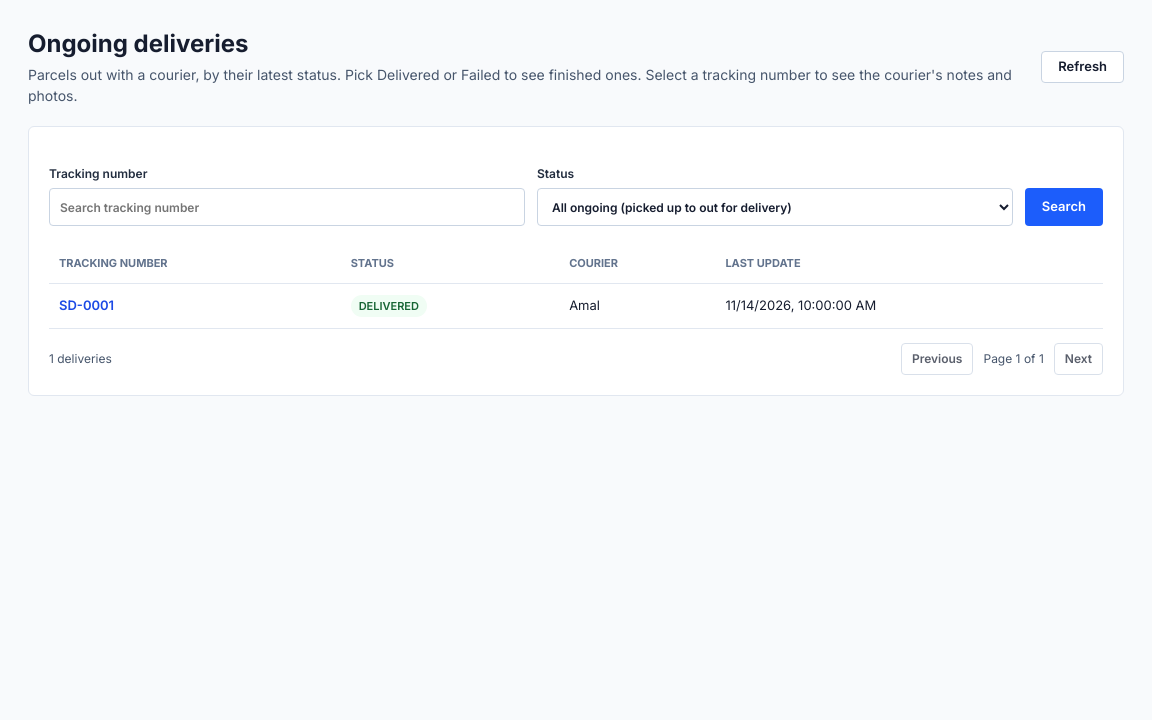
Test: OngoingDeliveriesPage › opens a delivery to show the courier notes, recipient and photos
Click the button "SD-0001". click: (87, 306)
box: x1=59 y1=296 x2=114 y2=316
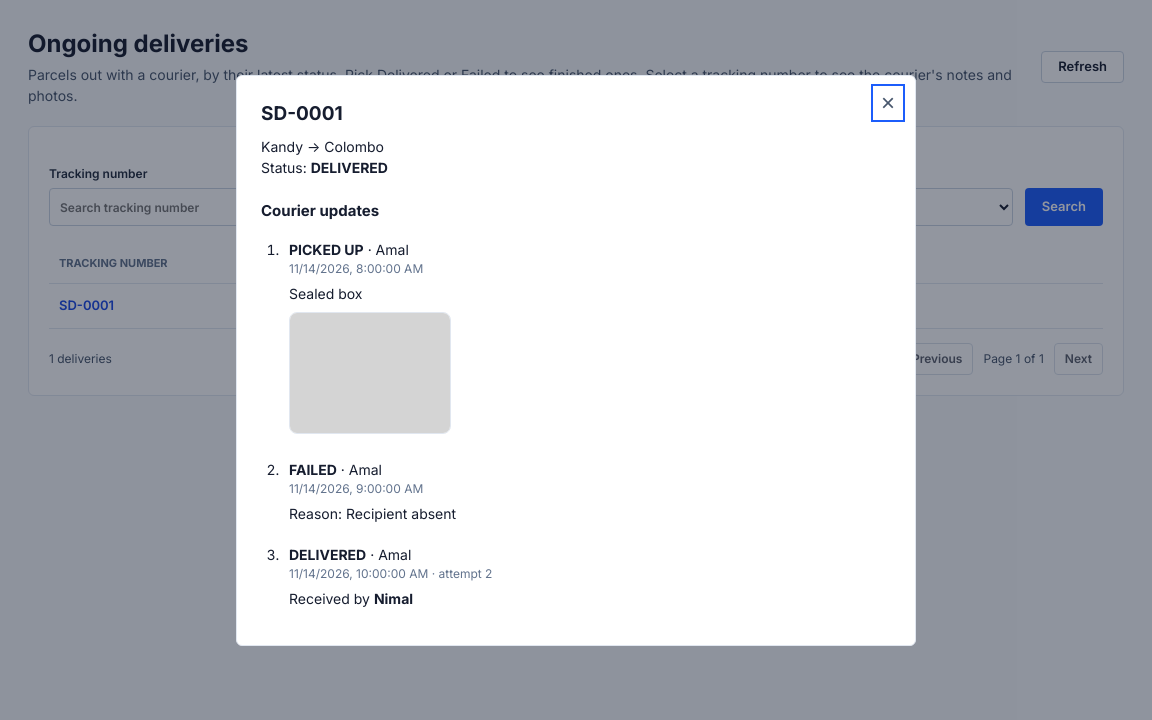
Expected: the text "Sealed box" is shown, x1=289 y1=284 x2=362 y2=302
Expected: the text "Reason: Recipient absent" is shown, x1=289 y1=504 x2=456 y2=522
Expected: the text "Nimal" is shown, x1=374 y1=590 x2=413 y2=606
Press Escape
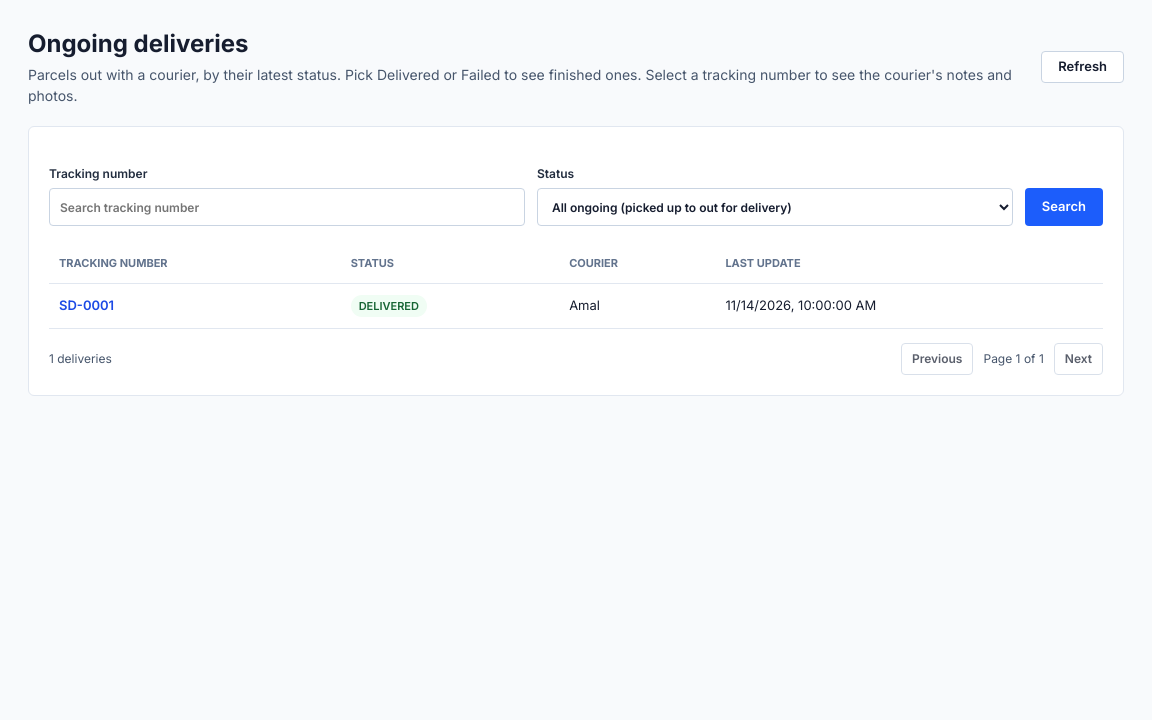
Expected: the dialog is gone
